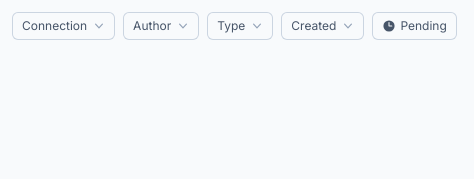
it: RequestFilterBar › inline search › shows a hint when nothing matches
Click the button with test id "filter-connection" at (64, 26), box [12, 12, 115, 40]
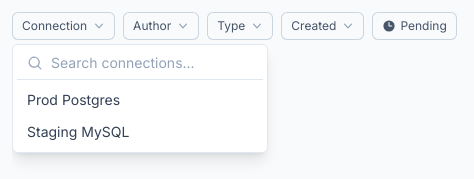
Type "nope" into the field with test id "filter-connection-search" at (152, 63), box [51, 53, 253, 73]
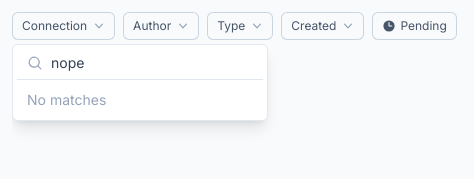
Result: the text "No matches" is shown at [27, 91, 106, 108]
